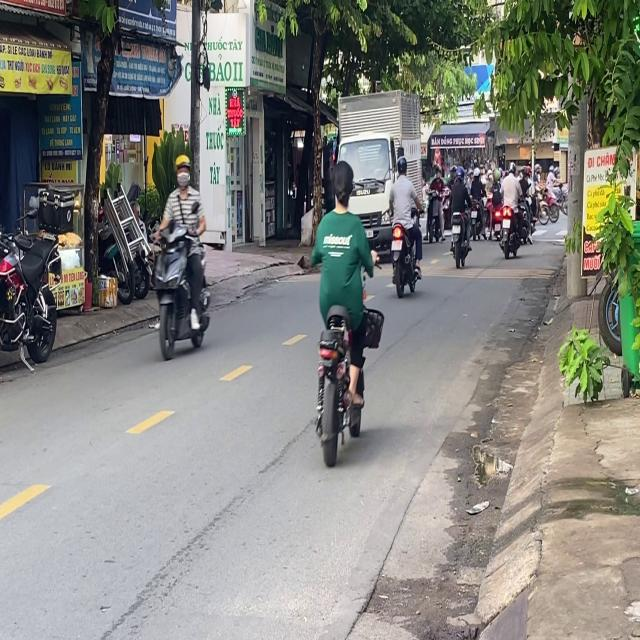helmet: (174, 153, 191, 187), (394, 154, 406, 175)
licenseplate: (307, 157, 377, 462), (149, 152, 212, 359), (388, 154, 422, 296)
motorcyclist: (331, 159, 354, 208)
nohelmet: (391, 238, 401, 250)
